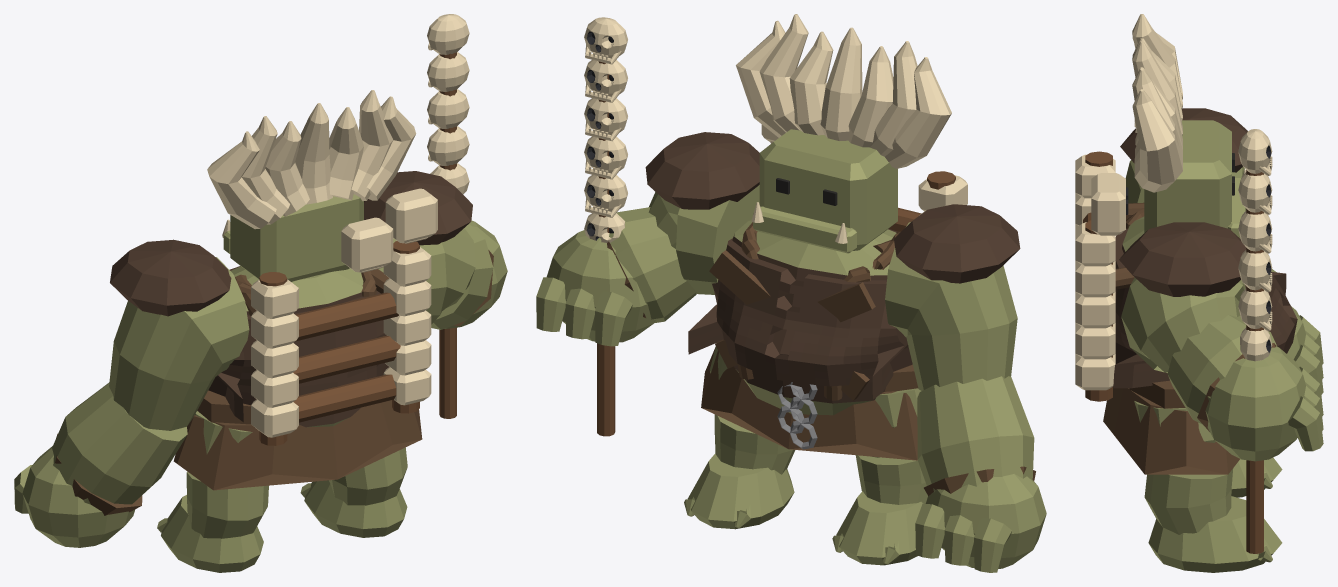
File: host_20.glb
The picture shows the model from 3 angles, left to right: view 1: azimuth 30°, elevation 25°; view 2: azimuth 150°, elevation 25°; view 3: azimuth 270°, elevation 25°; orthographic projection. The views are drawn at different scales.
Visible parts, largest first — view 1: V6 source anatomical upper arm L, Leather ragged skirt, V6 Patriarch actual attached shaped ivory carrier vertebra.0 (×9), V6 source anatomical forearm L, Observed face, V6 Patriarch actual dark contacting leather shoulder cap L, V6 source anatomical palm L, V6 Patriarch actual attached staff ivory skull actual carved (×4), V6 Patriarch actual broad fitted dark leather vest back, V6 source anatomical shin L, V6 source anatomical bare foot L, V6 source anatomical bare foot R (+24 smaller); view 2: V6 Patriarch actual broad fitted dark leather vest front, V6 source anatomical upper arm L, Observed face, V6 source anatomical forearm L, Leather ragged skirt, V6 Patriarch actual dark contacting leather shoulder cap L, V6 source anatomical thorax, V6 Patriarch actual attached staff ivory skull actual carved (×6), V6 Patriarch actual dark contacting leather shoulder cap R, V6 source anatomical palm L, V6 source anatomical upper arm R, V6 source anatomical bare foot R (+27 smaller); view 3: V6 source anatomical palm R, V6 Patriarch actual attached shaped ivory carrier vertebra.0 (×7), V6 Patriarch actual dark contacting leather shoulder cap R, Leather ragged skirt, Observed face, V6 Patriarch actual attached staff ivory skull actual carved (×6), V6 source anatomical upper arm R, V6 source anatomical bare foot R, V6 source anatomical forearm R, V6 source anatomical shin R, V6 Patriarch actual curved contacting ivory crown rib.006, V6 Patriarch actual broad fitted dark leather vest back (+22 smaller).
Part boxes in pixels (<box>): V6 source anatomical upper arm L: <box>109,257,249,430</box>; Leather ragged skirt: <box>173,400,422,490</box>; V6 Patriarch actual attached shaped ivory carrier vertebra.0 (×9): <box>251,247,431,407</box>; V6 source anatomical forearm L: <box>52,382,187,504</box>; Observed face: <box>230,194,363,281</box>; V6 Patriarch actual dark contacting leather shoulder cap L: <box>110,239,231,316</box>; V6 source anatomical palm L: <box>22,446,135,547</box>; V6 Patriarch actual attached staff ivory skull actual carved (×4): <box>427,14,469,165</box>; V6 Patriarch actual broad fitted dark leather vest back: <box>217,291,388,422</box>; V6 source anatomical shin L: <box>186,471,268,538</box>; V6 source anatomical bare foot L: <box>161,495,263,572</box>; V6 source anatomical bare foot R: <box>304,480,407,537</box>; V6 Patriarch actual broad fitted dark leather vest front: <box>688,238,907,399</box>; V6 source anatomical upper arm L: <box>885,222,1017,390</box>; Observed face: <box>759,129,897,250</box>; V6 source anatomical forearm L: <box>917,376,1034,491</box>; Leather ragged skirt: <box>701,347,917,460</box>; V6 Patriarch actual dark contacting leather shoulder cap L: <box>894,204,1020,283</box>; V6 source anatomical thorax: <box>732,219,912,415</box>; V6 Patriarch actual attached staff ivory skull actual carved (×6): <box>584,17,627,242</box>; V6 Patriarch actual dark contacting leather shoulder cap R: <box>645,132,759,209</box>; V6 source anatomical palm L: <box>925,474,1046,568</box>; V6 source anatomical upper arm R: <box>648,185,759,294</box>; V6 source anatomical bare foot R: <box>687,453,794,529</box>; V6 source anatomical palm R: <box>1205,346,1305,461</box>; V6 Patriarch actual attached shaped ivory carrier vertebra.0 (×7): <box>1075,154,1115,390</box>; V6 Patriarch actual dark contacting leather shoulder cap R: <box>1119,222,1246,296</box>; Leather ragged skirt: <box>1103,386,1239,474</box>; Observed face: <box>1144,120,1231,232</box>; V6 Patriarch actual attached staff ivory skull actual carved (×6): <box>1238,129,1272,361</box>; V6 source anatomical upper arm R: <box>1121,277,1245,372</box>; V6 source anatomical bare foot R: <box>1148,496,1282,572</box>; V6 source anatomical forearm R: <box>1167,315,1276,424</box>; V6 source anatomical shin R: <box>1144,468,1233,534</box>; V6 Patriarch actual curved contacting ivory crown rib.006: <box>1132,89,1182,192</box>; V6 Patriarch actual broad fitted dark leather vest back: <box>1113,228,1169,388</box>.
Size of the model in its own units: 2.07 by 1.92 by 0.8988.
